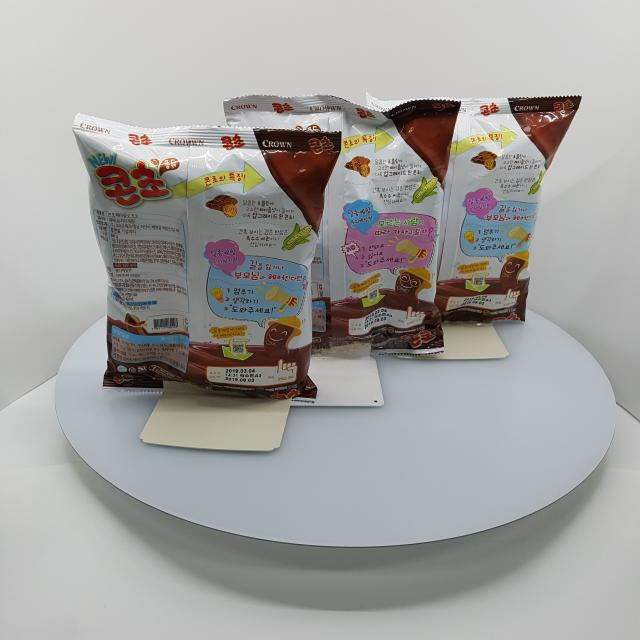-66G: (74, 113, 343, 404), (224, 94, 462, 357), (367, 93, 583, 326)
